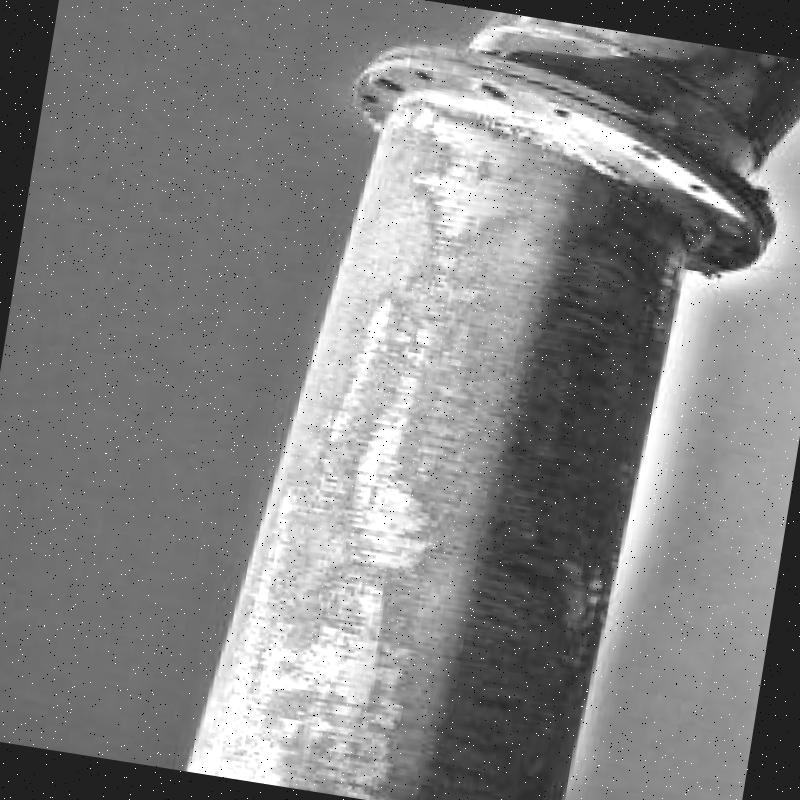corrosion: (193, 111, 696, 800)
